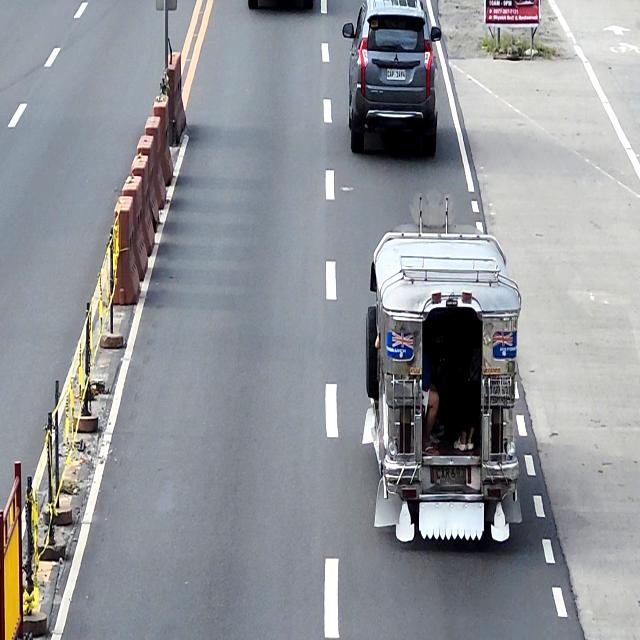Car: (341, 0, 441, 156)
Jeep: (362, 206, 523, 545)
License-Plate: (432, 464, 469, 486), (386, 66, 406, 80)
